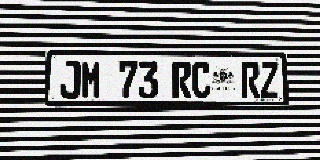3: (138, 61, 158, 98)
7: (118, 61, 138, 99)
C: (192, 62, 211, 98)
J: (60, 61, 81, 99)
M: (81, 61, 102, 99)
R: (172, 61, 191, 98), (241, 62, 260, 98)
Z: (260, 62, 279, 98)
